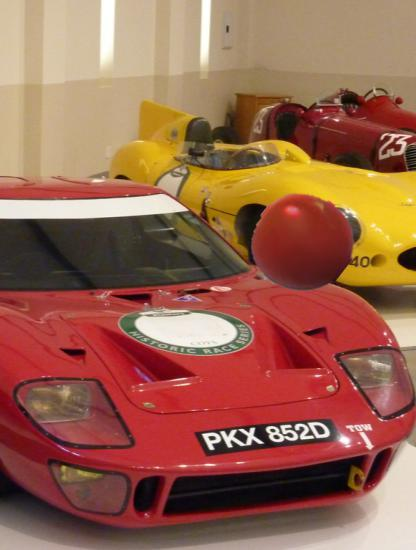Tomato: (252, 193, 352, 293)
